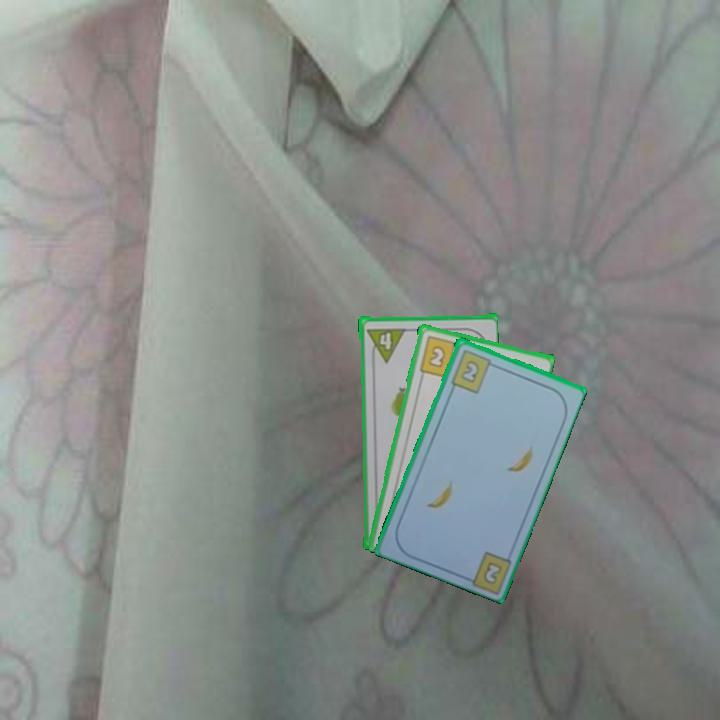2b: (447, 346, 499, 396), (416, 332, 464, 379), (479, 558, 505, 587)
4p: (363, 324, 407, 364)
